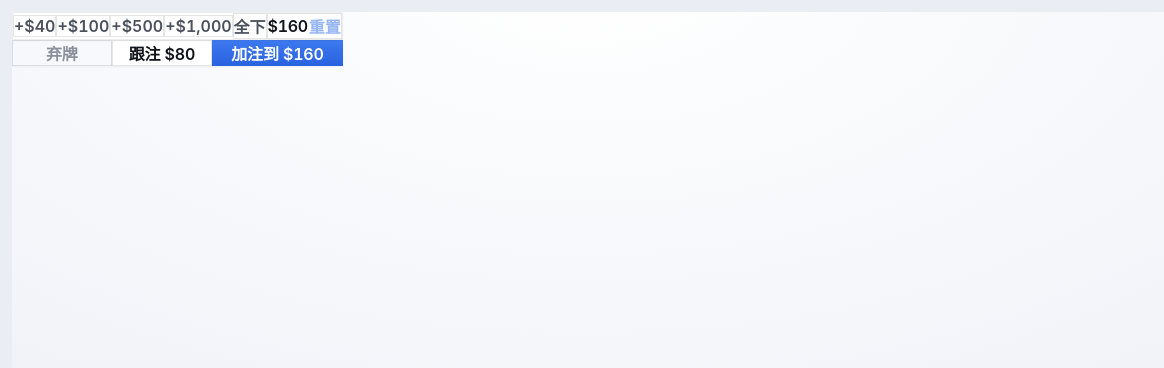
Test: 主按钮的文案是「加注到」的总额 › 加一档之后文案跟着走
What coordinates should you click on to do the following:
click the button "+$500"
I would click on:
 (137, 26)
Its box is [110, 15, 164, 37].
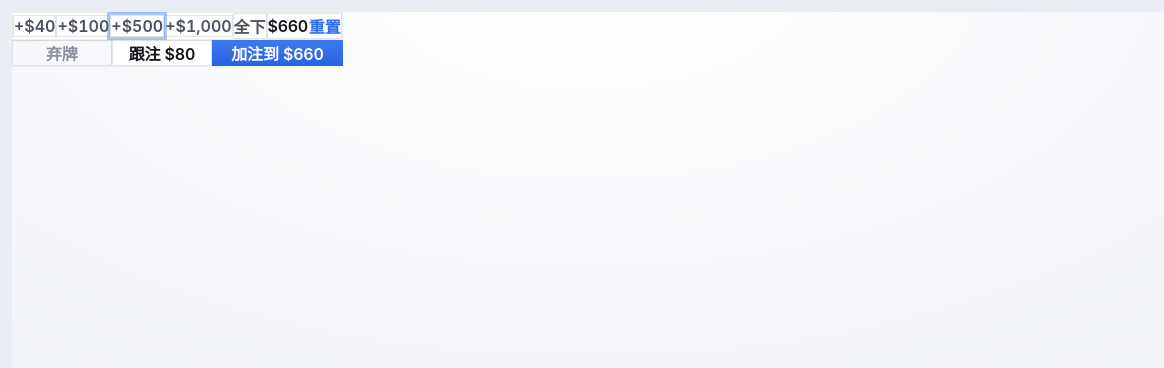
Expected: the button "加注到 $660" is shown, [212, 40, 343, 66]
